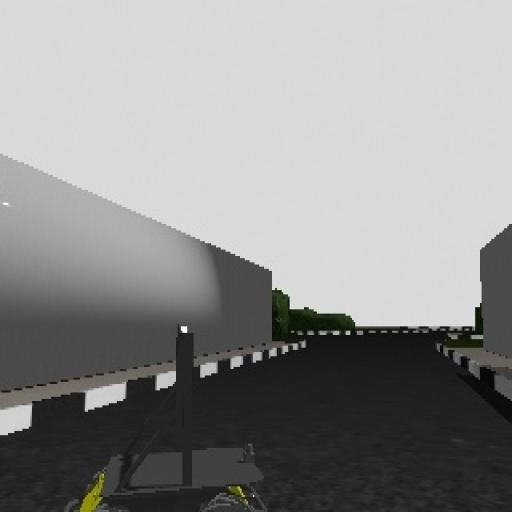huskya200: (66, 320, 275, 512)
